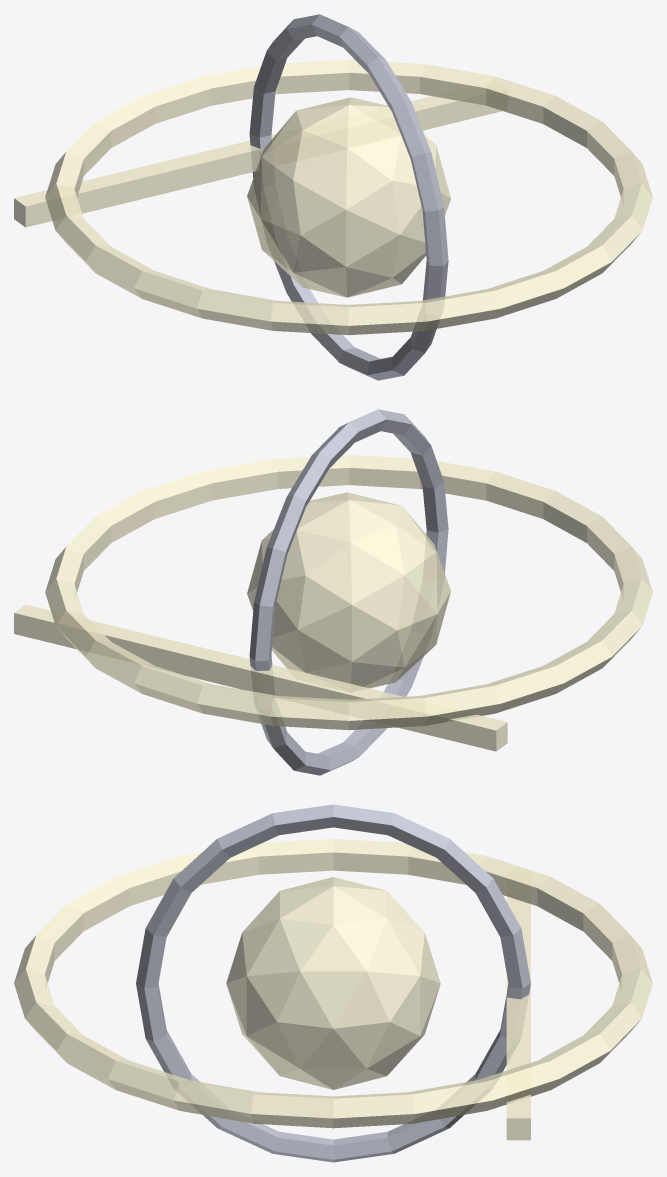
The model's file is 03_emissive_glow_overlay_3.glb.
The picture shows the model from 3 angles, top to bottom: view 1: azimuth 30°, elevation 25°; view 2: azimuth 150°, elevation 25°; view 3: azimuth 270°, elevation 25°; orthographic projection. The views are drawn at different scales.
Visible parts, largest first — view 1: emissive_outer_ring, glow_core, emissive_inner_ring, emissive_strip; view 2: emissive_outer_ring, glow_core, emissive_inner_ring, emissive_strip; view 3: emissive_outer_ring, glow_core, emissive_inner_ring, emissive_strip.
Part boxes in pixels (left/top/right/bottom): emissive_outer_ring: left=45, top=59, right=652, bottom=335; glow_core: left=247, top=97, right=450, bottom=297; emissive_inner_ring: left=249, top=14, right=448, bottom=380; emissive_strip: left=14, top=96, right=502, bottom=227; emissive_outer_ring: left=45, top=454, right=652, bottom=730; glow_core: left=247, top=492, right=450, bottom=688; emissive_inner_ring: left=249, top=409, right=448, bottom=775; emissive_strip: left=14, top=604, right=507, bottom=751; emissive_outer_ring: left=14, top=838, right=652, bottom=1128; glow_core: left=226, top=877, right=440, bottom=1089; emissive_inner_ring: left=136, top=804, right=530, bottom=1162; emissive_strip: left=506, top=896, right=530, bottom=1140.
Size of the model in its own units: 1.31 by 0.81 by 1.31.
